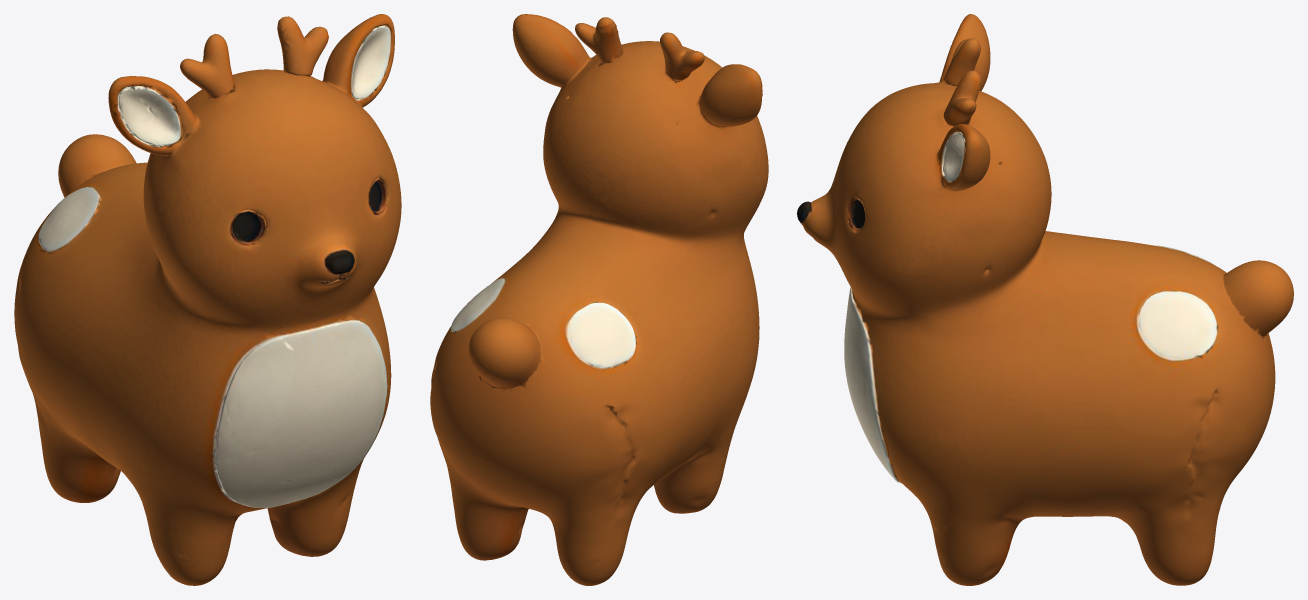
The model's file is deer.glb.
3 renders of one model, left to right at view 1: azimuth 30°, elevation 25°; view 2: azimuth 150°, elevation 25°; view 3: azimuth 270°, elevation 25°, orthographic. The views are drawn at different scales.
Parts seen in each view (by area): view 1: tripo_node_26ecb1a8-35f7-4967-a189-e7f94bdb5d4f; view 2: tripo_node_26ecb1a8-35f7-4967-a189-e7f94bdb5d4f; view 3: tripo_node_26ecb1a8-35f7-4967-a189-e7f94bdb5d4f.
Part boxes in pixels (bbox=[...]): tripo_node_26ecb1a8-35f7-4967-a189-e7f94bdb5d4f: bbox=[14, 14, 401, 585]; tripo_node_26ecb1a8-35f7-4967-a189-e7f94bdb5d4f: bbox=[430, 14, 768, 585]; tripo_node_26ecb1a8-35f7-4967-a189-e7f94bdb5d4f: bbox=[797, 14, 1293, 585].
Bounding box in the file's own units: 0.5406 × 0.9788 × 0.885.
Materials: 1 (1 with a texture image).
